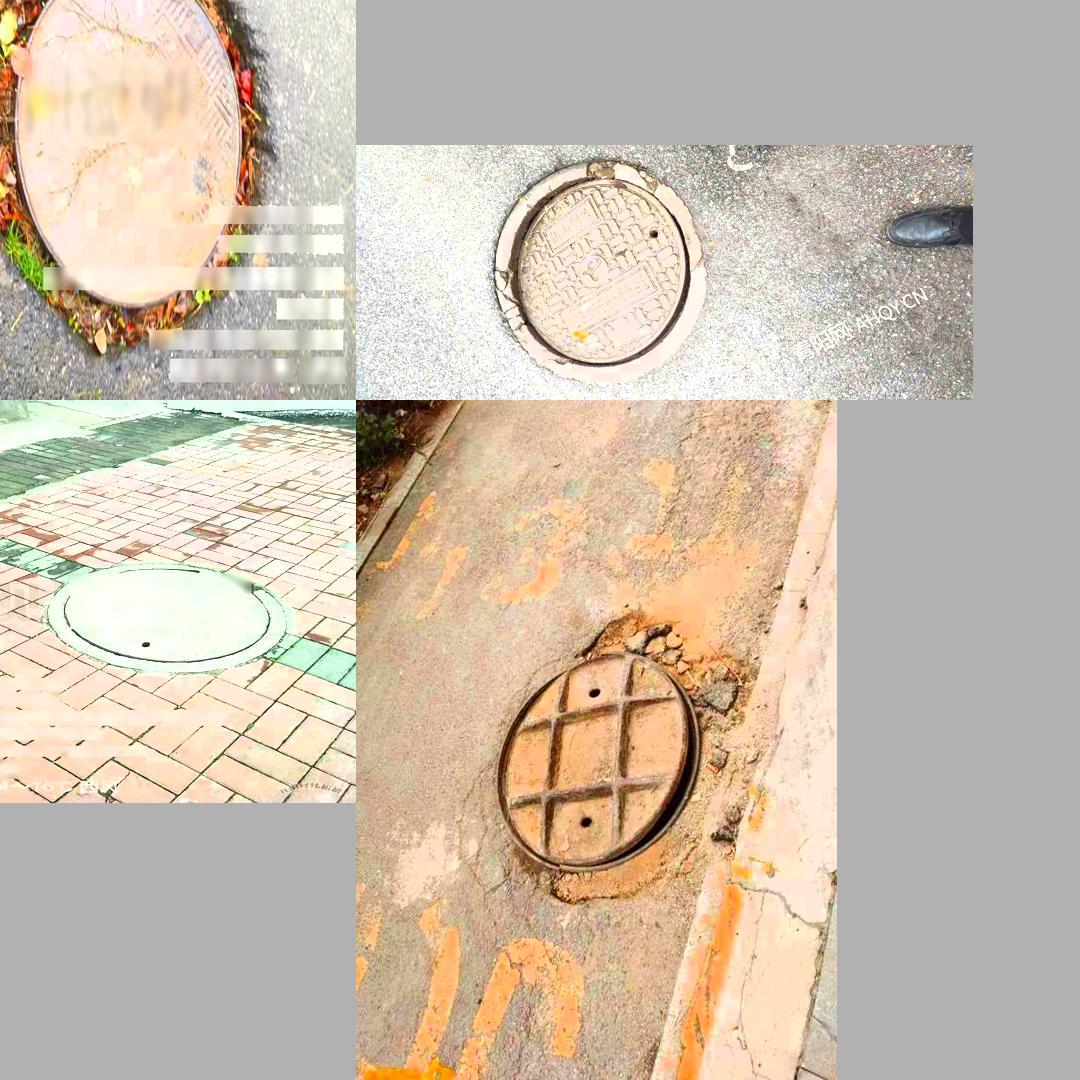circle: (476, 584, 783, 939), (0, 0, 278, 348), (464, 159, 720, 381), (43, 563, 290, 676)
